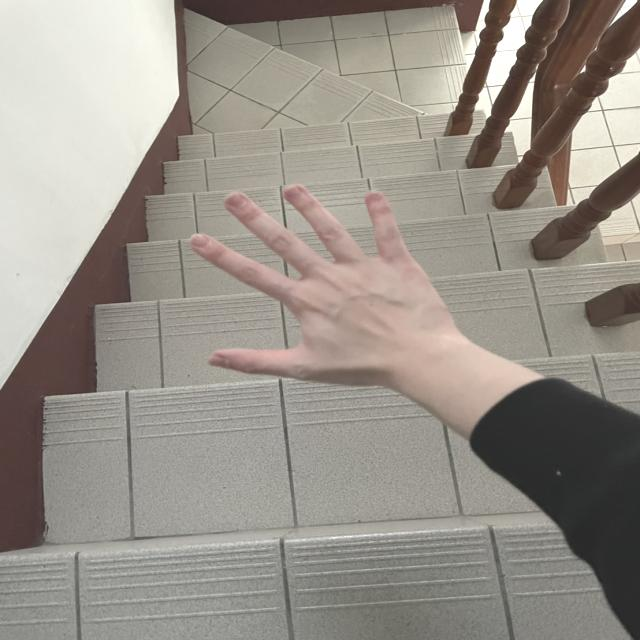no_glove: (178, 163, 470, 412)
